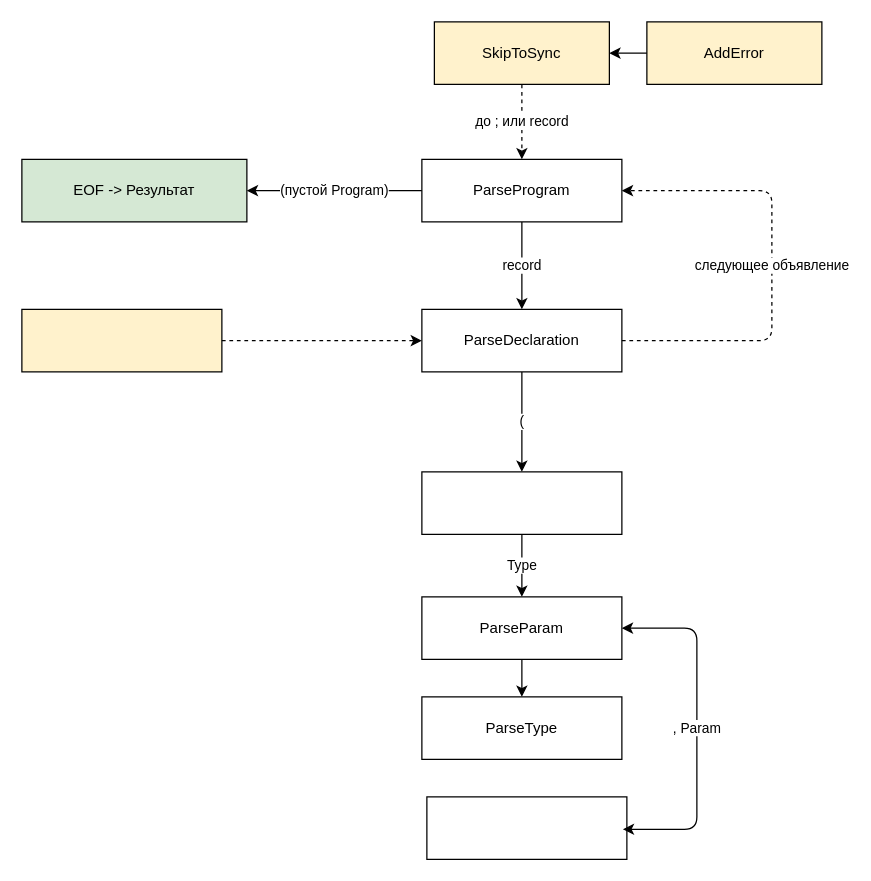
The diagram is 871 pixels wide and 881 high, and some of its shapes have lost their labels. The box of each missing label's shape, as (x1, y1, x2, y2) in pixels:
ExpectToken: (21, 308, 222, 372)
ParseParamList: (421, 471, 622, 534)
ParseTail: (426, 796, 627, 859)
